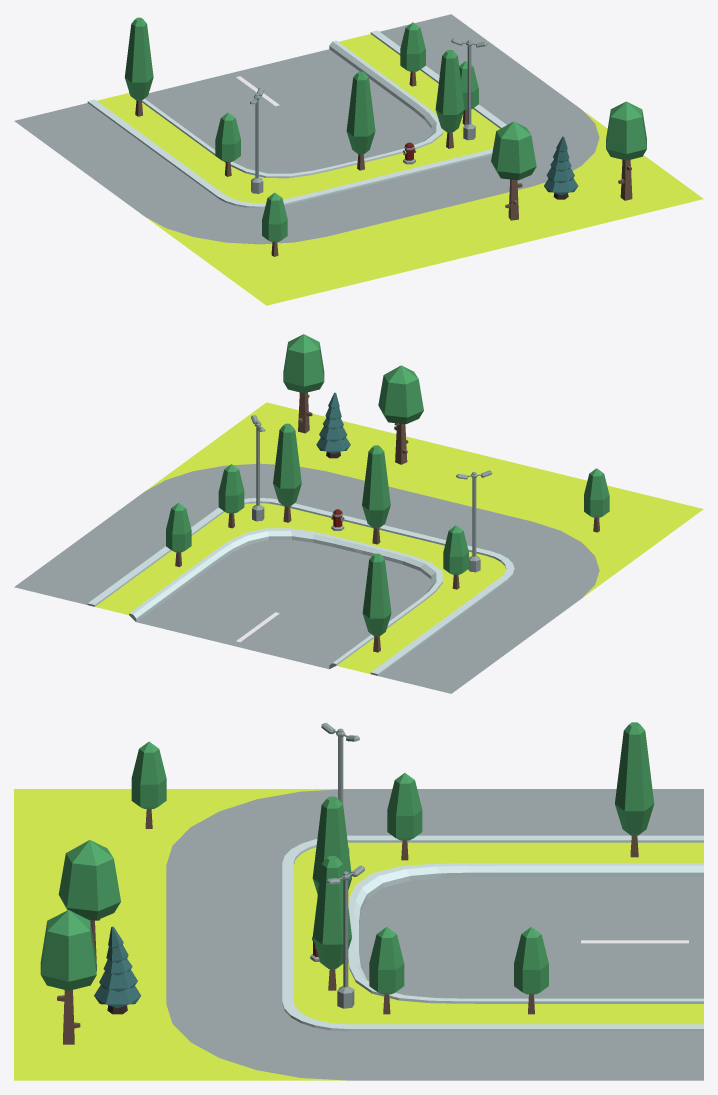
Rendered from Tile_Road_End_Base.fbx.
3 views of the same model, one above another, from view 1: azimuth 30°, elevation 25°; view 2: azimuth 150°, elevation 25°; view 3: azimuth 270°, elevation 25° (orthographic). The views are drawn at different scales.
Visible parts, largest first — view 1: Plane.009; view 2: Plane.009; view 3: Plane.009.
Boxes of the visible parts, x1,y1,x2,y2 form: Plane.009: (14,14,703,305); Plane.009: (14,334,703,693); Plane.009: (14,722,703,1080).
Bounding box in the file's own units: 250 × 55.99 × 250.
